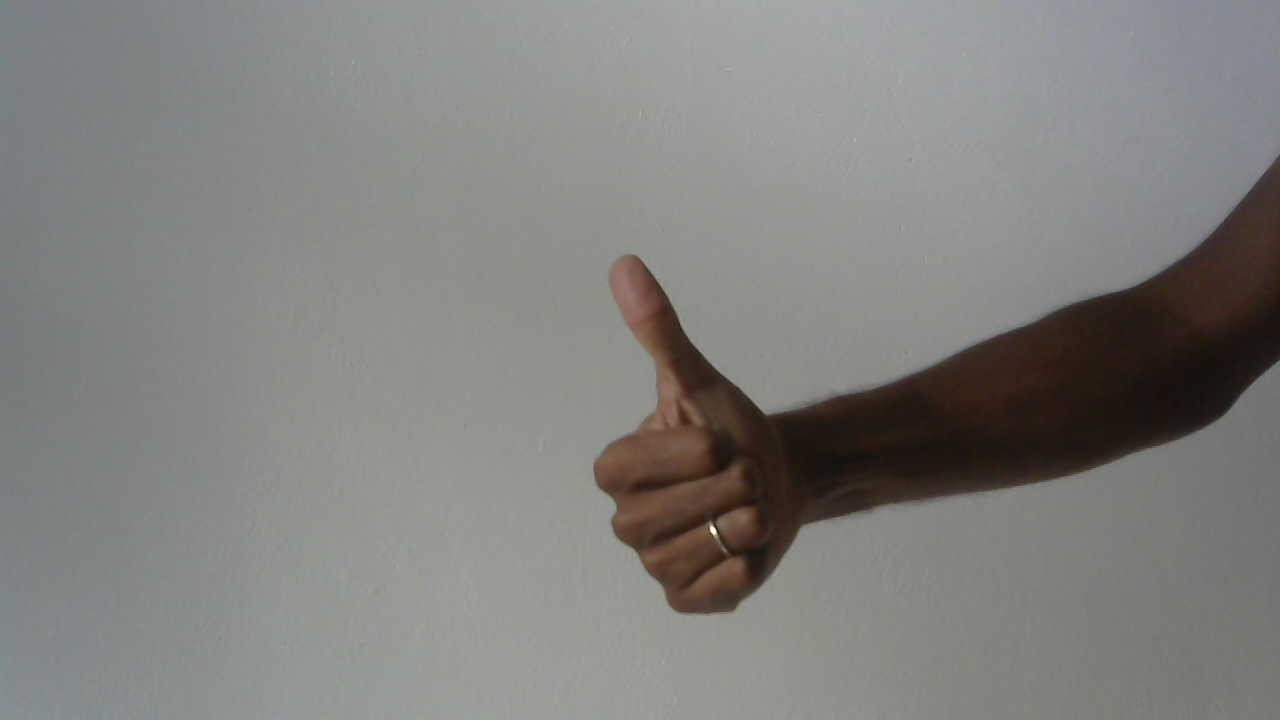thumbsup: (581, 243, 824, 654)
